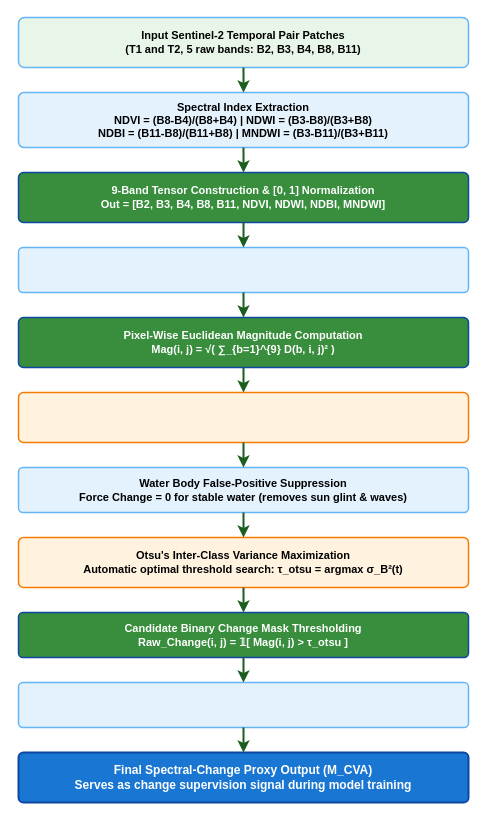
The diagram is 486 pixels wide and 821 high, and some of its shapes have lost their labels. The shapes that lost their labels are listed below. From the top down, each one's box as (x1, y1, x2, y2) in pixels, then its label:
(17, 246, 469, 293): Spectral Difference Tensor Calculation D = I_T1 - I_T2 ∈ ℝ^(9 × 128 × 128)
(17, 391, 469, 443): Multi-Temporal Water-Gating Filter Evaluate: (NDWI_T1 > 0.35) ∧ (NDWI_T2 > 0.35)
(17, 681, 469, 728): Precomputed CVA Mask Bank Generated for 6 Temporal Pairs × ~3,468 Patches
